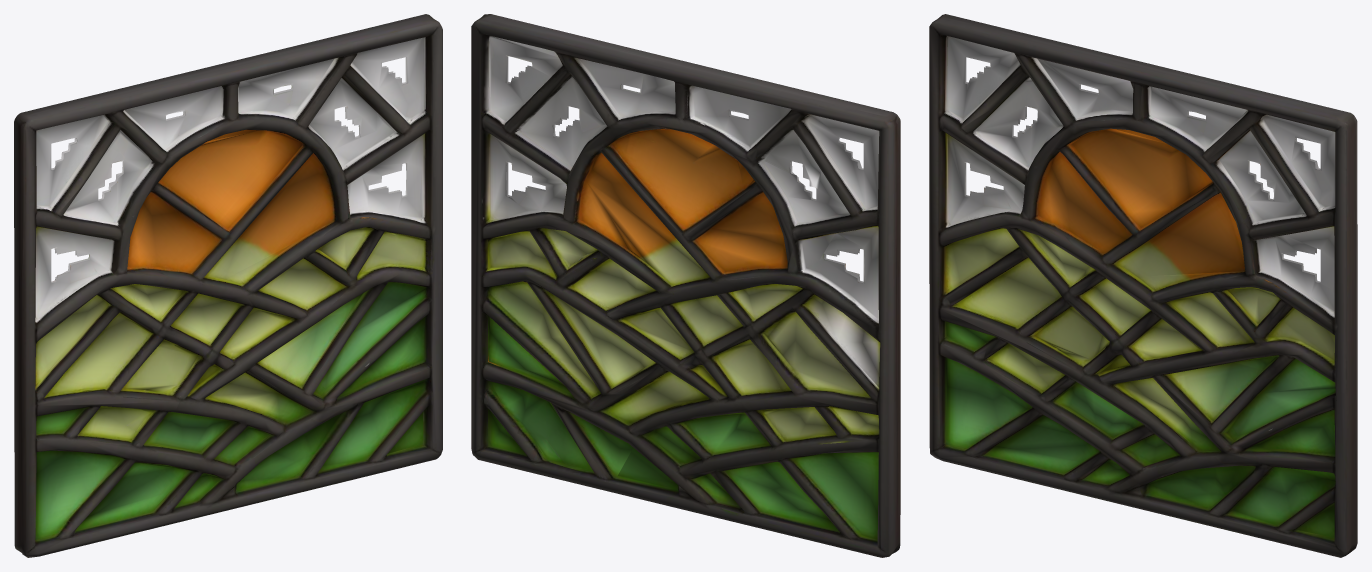
File: vitrail-sun.glb
3 renders of one model, left to right at view 1: azimuth 30°, elevation 25°; view 2: azimuth 150°, elevation 25°; view 3: azimuth 330°, elevation 25°, orthographic.
Parts seen in each view (by area): view 1: material; view 2: material; view 3: material.
Boxes of the visible parts, x1,y1,x2,y2 form: material: (14, 14, 442, 557); material: (471, 14, 900, 557); material: (929, 14, 1357, 557).
Bounding box in the file's own units: 0.8609 × 0.8616 × 0.0457.
1 material, 1 textured.
